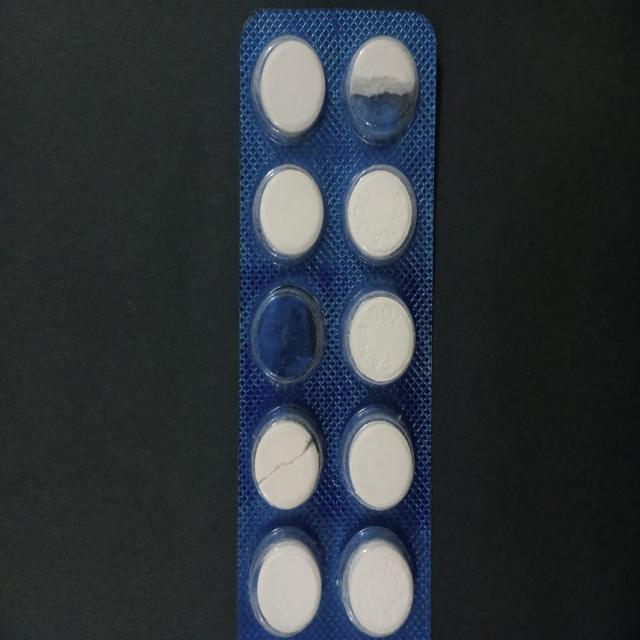defect: (341, 31, 425, 150), (246, 279, 330, 392), (246, 400, 328, 514)
